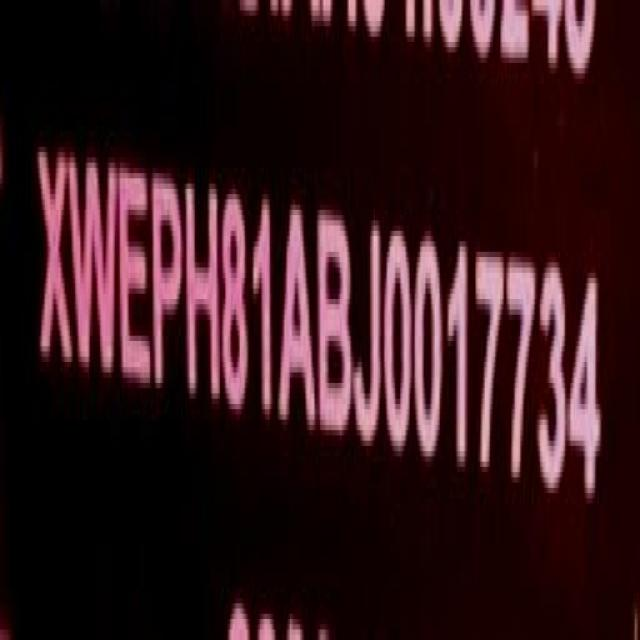0: (383, 222, 412, 466), (415, 226, 444, 469)
1: (447, 235, 472, 481), (255, 186, 278, 432)
3: (538, 261, 571, 504)
4: (570, 266, 604, 510)
7: (506, 248, 535, 498), (474, 240, 503, 488)
8: (221, 182, 250, 425)
A: (280, 193, 317, 440)
B: (316, 199, 354, 447)
E: (118, 154, 153, 400)
H: (184, 168, 219, 409)
J: (354, 212, 385, 454)
P: (152, 166, 185, 404)
W: (69, 138, 117, 394)
X: (38, 139, 72, 386)
